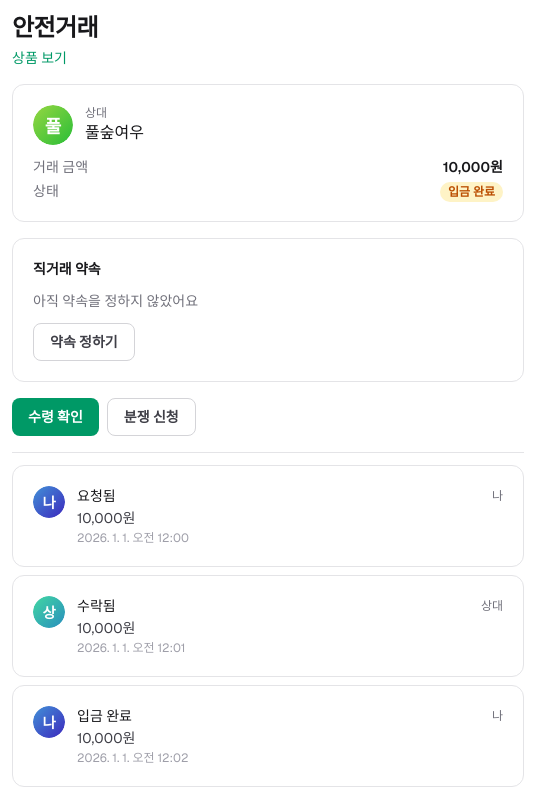
Test: EscrowRoom › performs an action (confirm) as a POST then re-fetches the detail to refresh state
Click the button "수령 확인". click: (55,417)
box: [12,398,99,436]
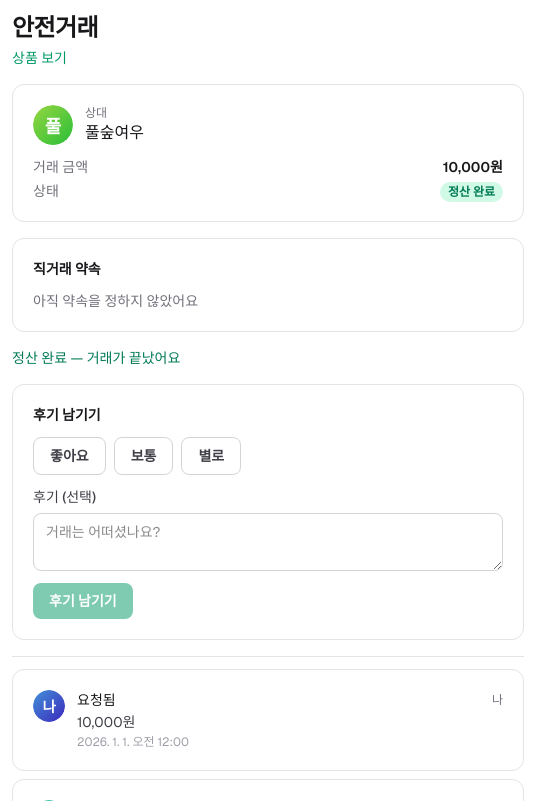
Now the text "정산 완료 — 거래가 끝났어요" is shown, box [12,349,180,367]
